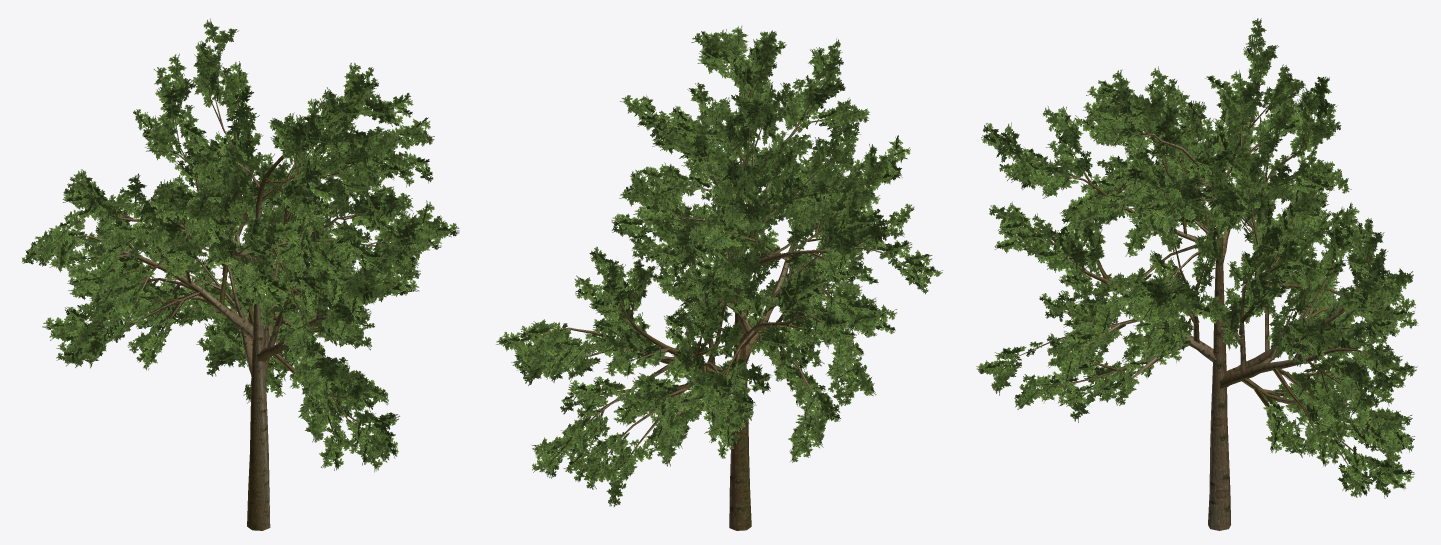
File: tree-hd.glb
3 views of the same model, side by side, from view 1: azimuth 30°, elevation 25°; view 2: azimuth 150°, elevation 25°; view 3: azimuth 270°, elevation 25° (orthographic). The views are drawn at different scales.
Visible parts, largest first — view 1: Tree; view 2: Tree; view 3: Tree.
Boxes of the visible parts, x1,y1,x2,y2 form: Tree: (21,18,459,530); Tree: (496,26,942,530); Tree: (976,18,1418,530).
Bounding box in the file's own units: 52.63 × 64.73 × 53.53.
Materials: 2 (2 with a texture image).
